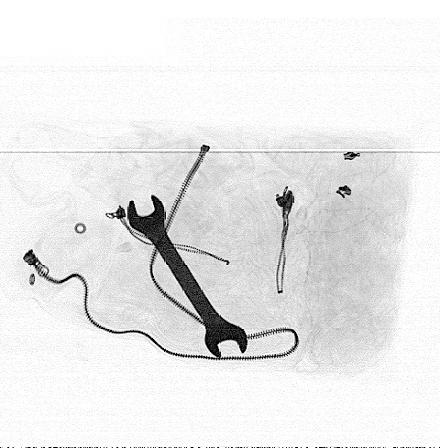Wrench: (125, 192, 248, 360)
